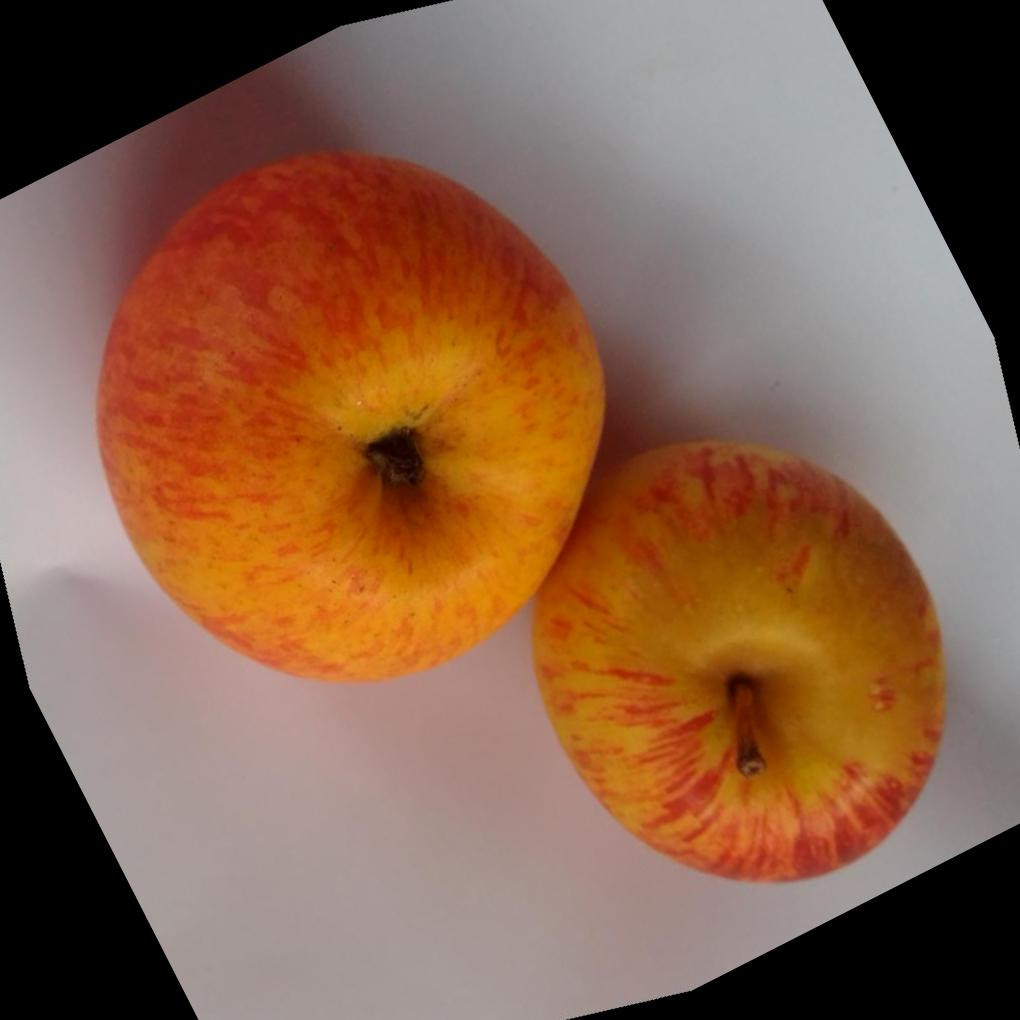FreshGuava: (92, 143, 946, 880)
